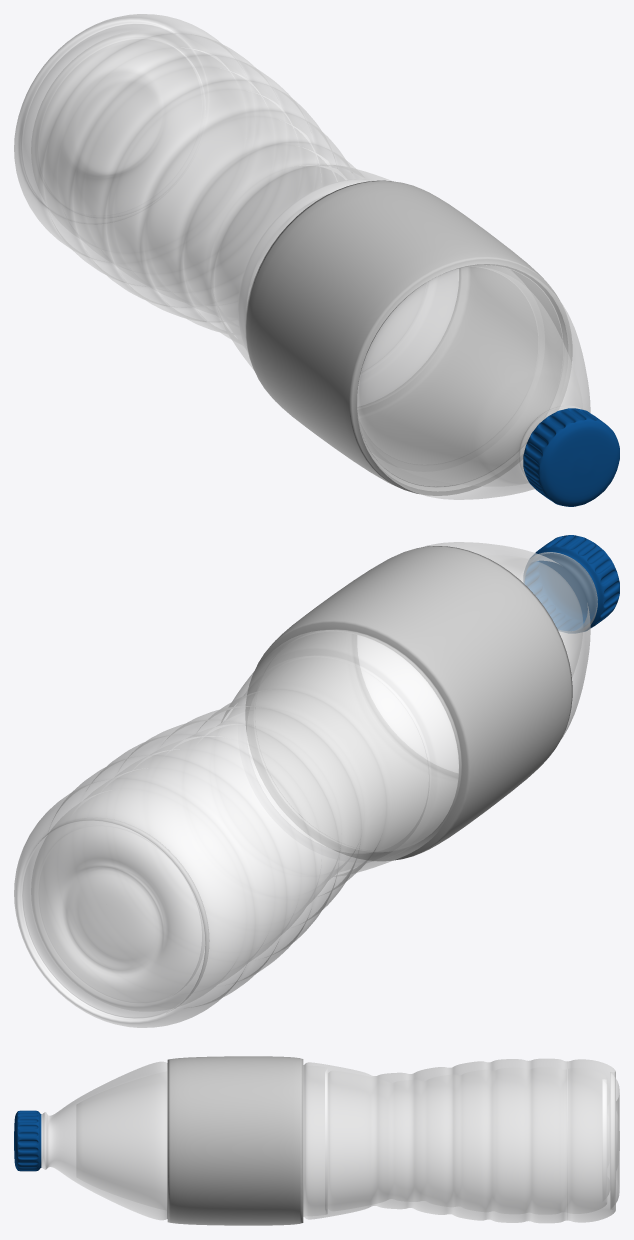
Rendered from bottle_complete.obj.
3 renders of one model, top to bottom at view 1: azimuth 30°, elevation 25°; view 2: azimuth 150°, elevation 25°; view 3: azimuth 270°, elevation 25°, orthographic. The views are drawn at different scales.
Visible parts, largest first — view 1: Object_4, Object_10, Object_5, Object_6; view 2: Object_4, Object_10, Object_5, Object_6; view 3: Object_4, Object_10, Object_5, Object_6.
Part boxes in pixels (x1,y1,x2,y2): Object_4: [14, 14, 590, 499]; Object_10: [31, 30, 582, 486]; Object_5: [245, 180, 572, 495]; Object_6: [523, 408, 619, 506]; Object_4: [14, 542, 597, 1027]; Object_10: [31, 555, 582, 1011]; Object_5: [245, 546, 572, 860]; Object_6: [524, 535, 619, 632]; Object_4: [41, 1058, 619, 1223]; Object_10: [76, 1065, 609, 1216]; Object_5: [167, 1056, 303, 1225]; Object_6: [14, 1110, 41, 1171].
Bounding box in the file's own units: 0.9981 × 0.9981 × 3.57.
